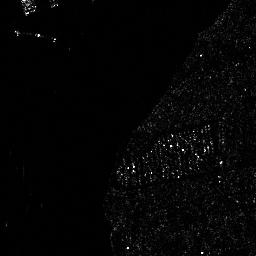ship: (14, 28, 57, 44)
